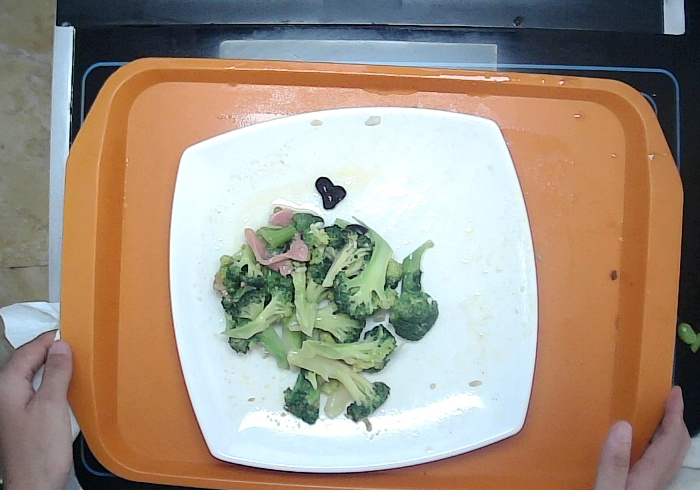ZNLD-Bai_Fang_Pan: (169, 103, 538, 473)
